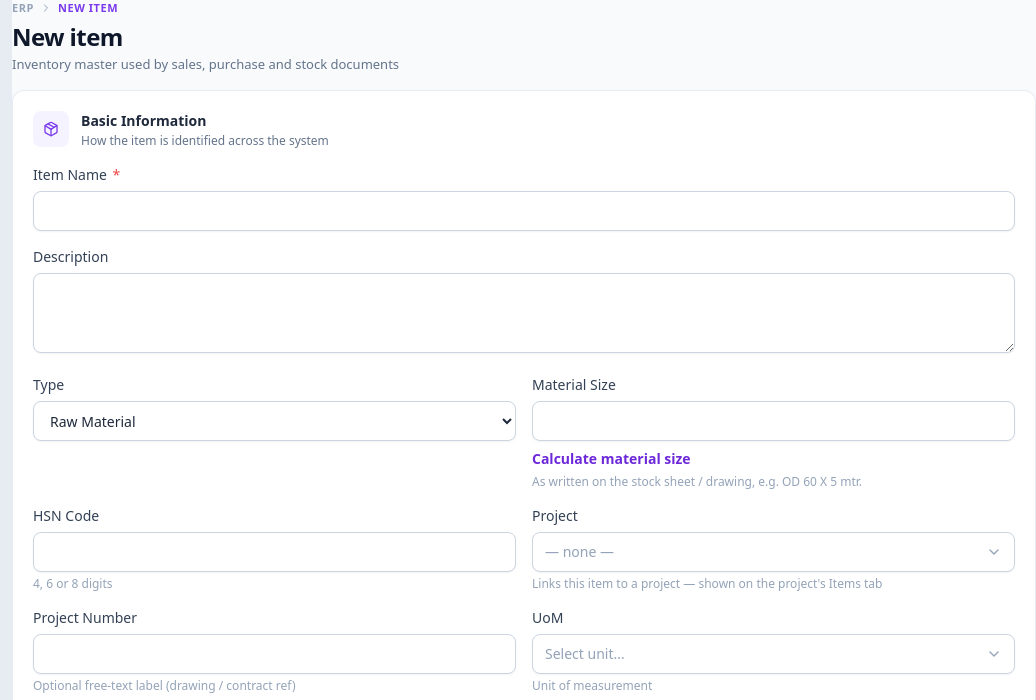
Scenario: item metal calculator › calculates length from weight and saves the rounded length in millimetres
The width and height of the screenshot is (1036, 700).
Type "Steel round bar" into the field labelled "Item Name *".
click(524, 211); type("Steel round bar")  # box [33, 191, 1015, 231]
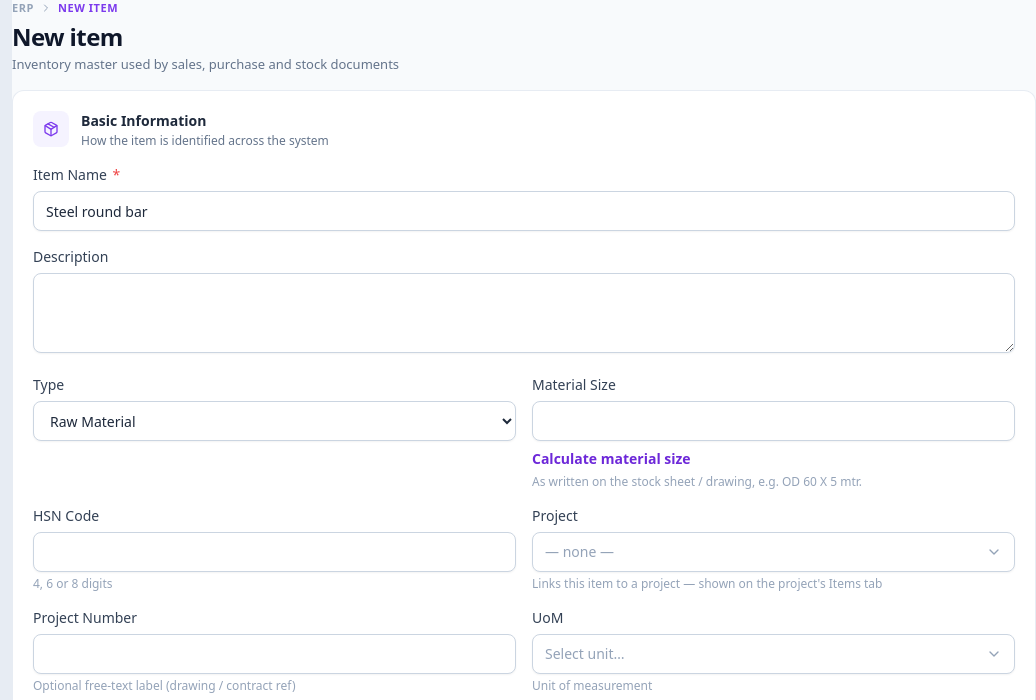
Click the button "Calculate material size".
click(611, 459)  # box [532, 449, 691, 469]
(page scrolled)
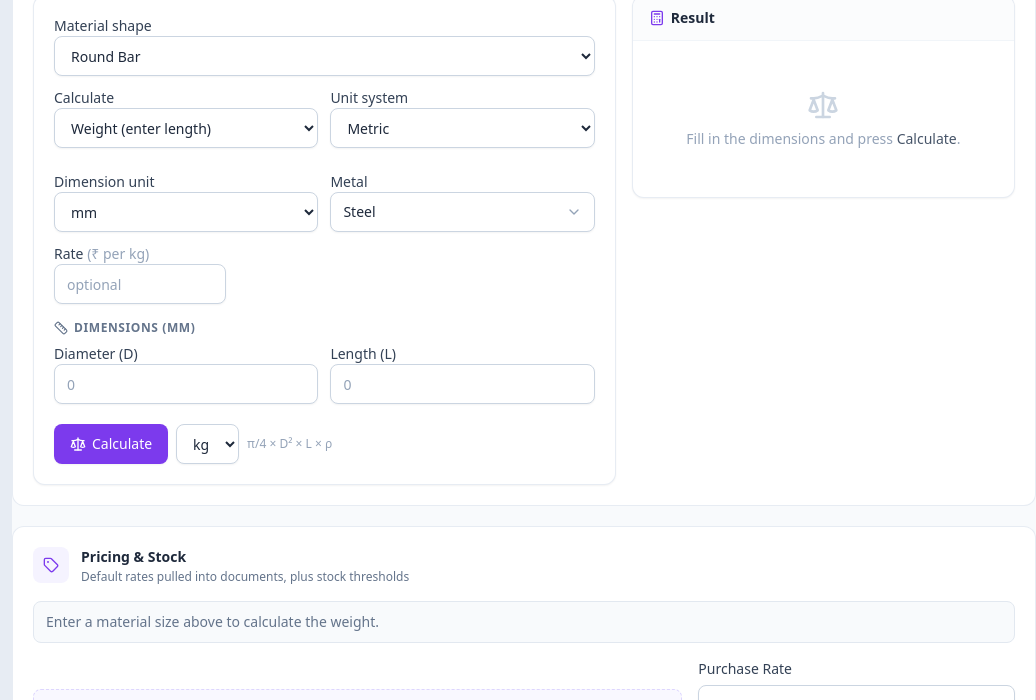
Check: the dropdown labelled "Material shape" is shown, box [54, 36, 595, 76]
Type "100" into the number field with id "mc-d".
click(186, 384); type("100")  # box [54, 364, 318, 404]
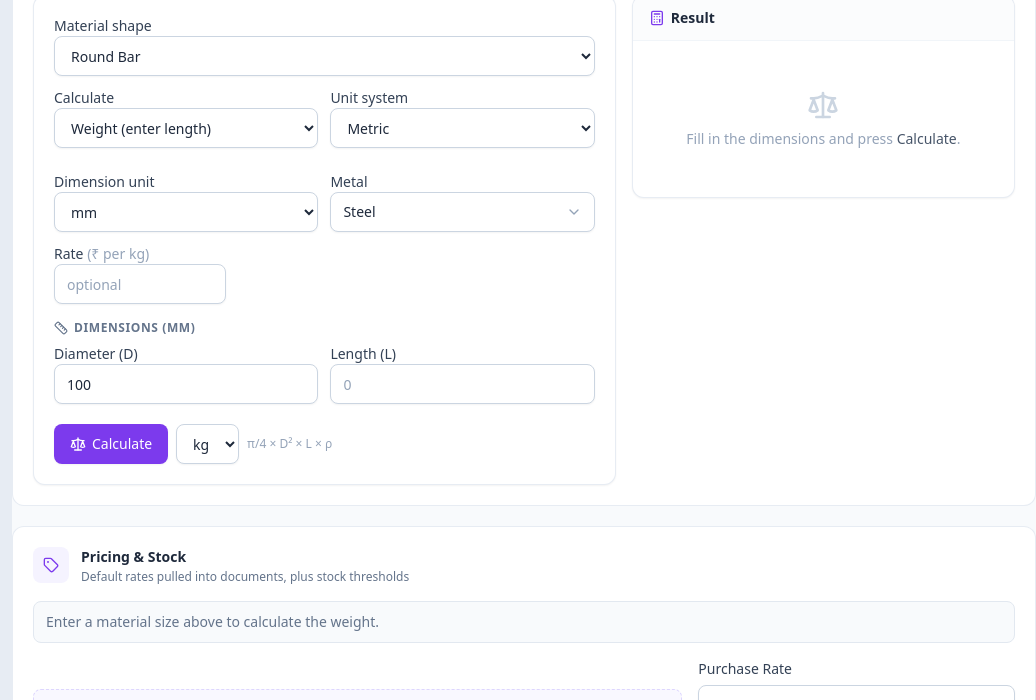
Select "Length (enter weight)" in the dropdown named "Calculate" at (186, 128), box [54, 108, 318, 148]
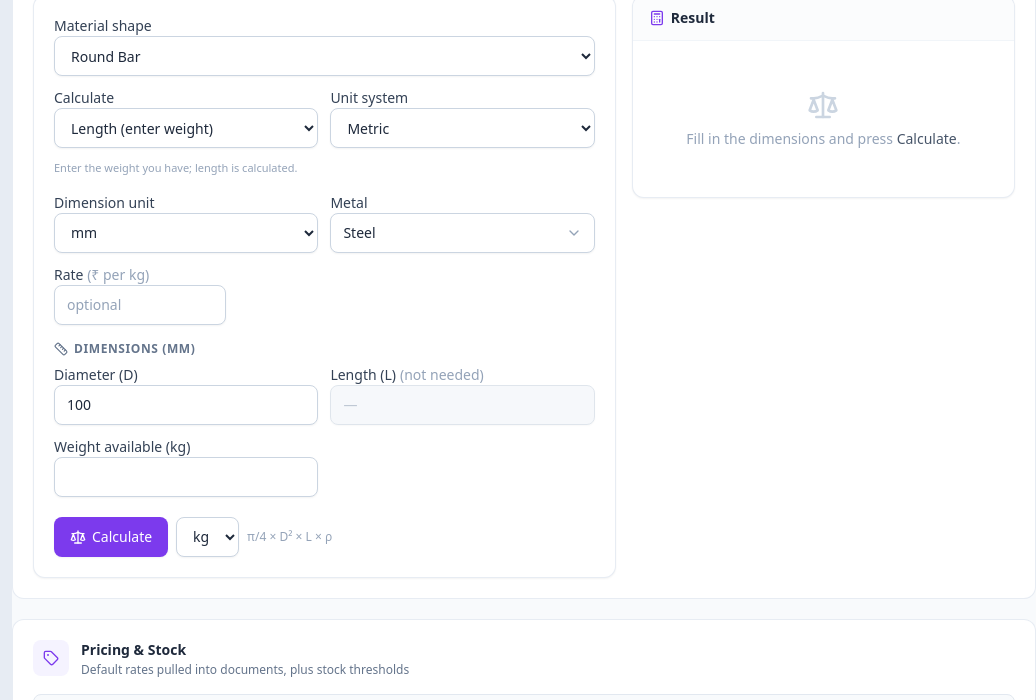
Type "61.654" into the number field with id "mc-total-weight".
click(186, 476); type("61.654")  # box [54, 456, 318, 496]
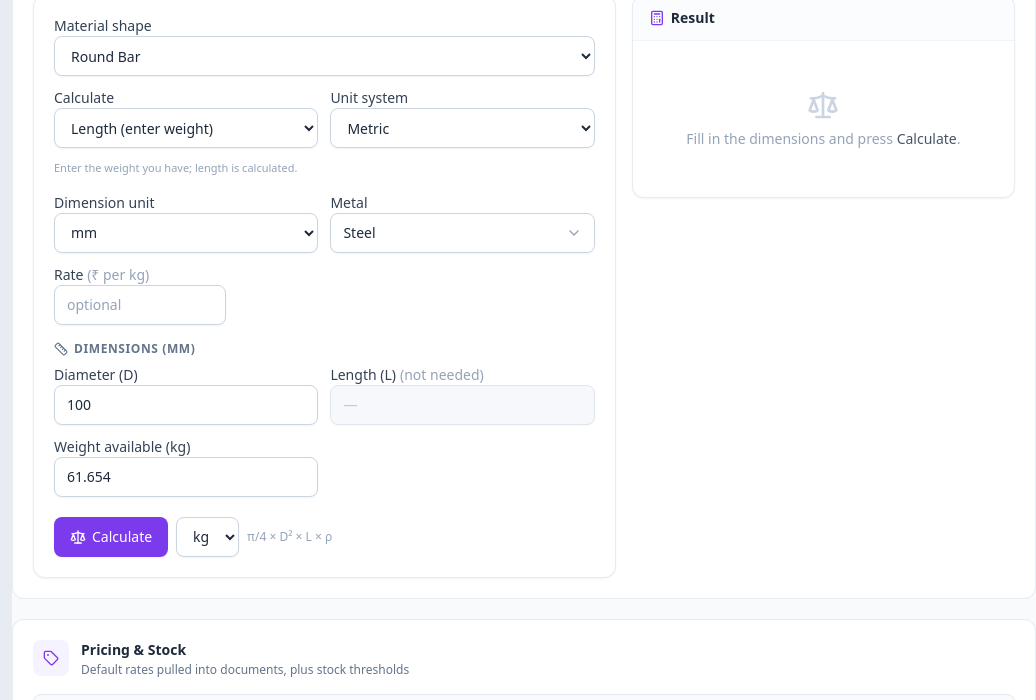
Click the button "Calculate".
click(111, 536)  # box [54, 516, 168, 556]
(page scrolled)
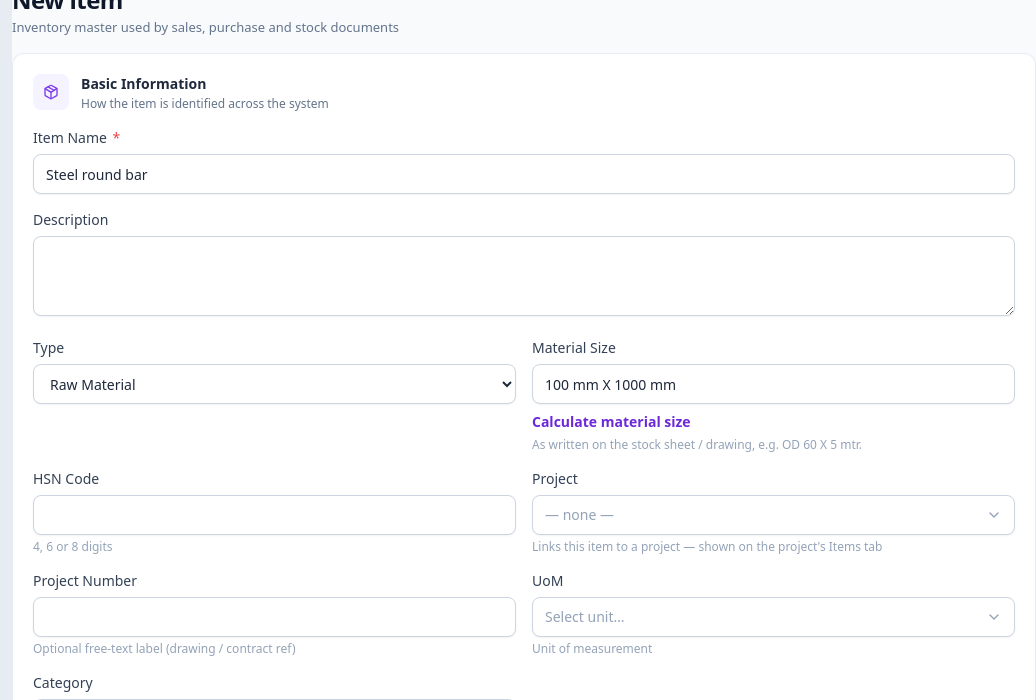
Check: the field labelled "Material Size" holds "100 mm X 1000 mm", box [532, 364, 1015, 404]
